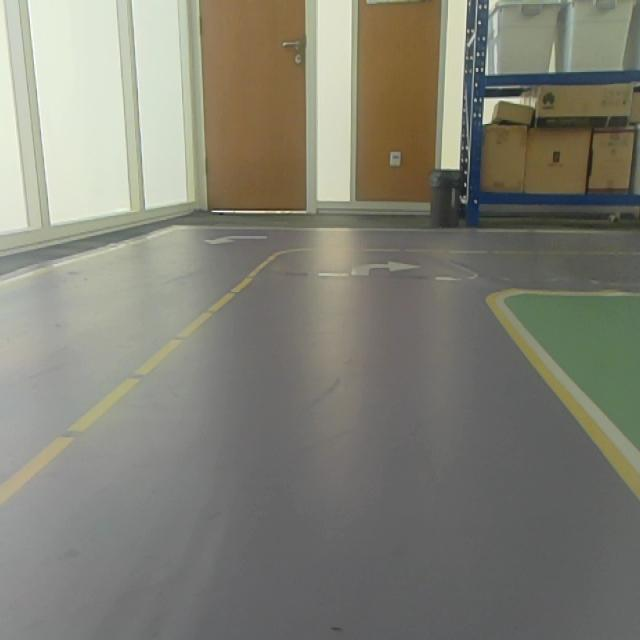left_lane: (0, 255, 272, 511)
right_lane: (493, 300, 640, 505)
